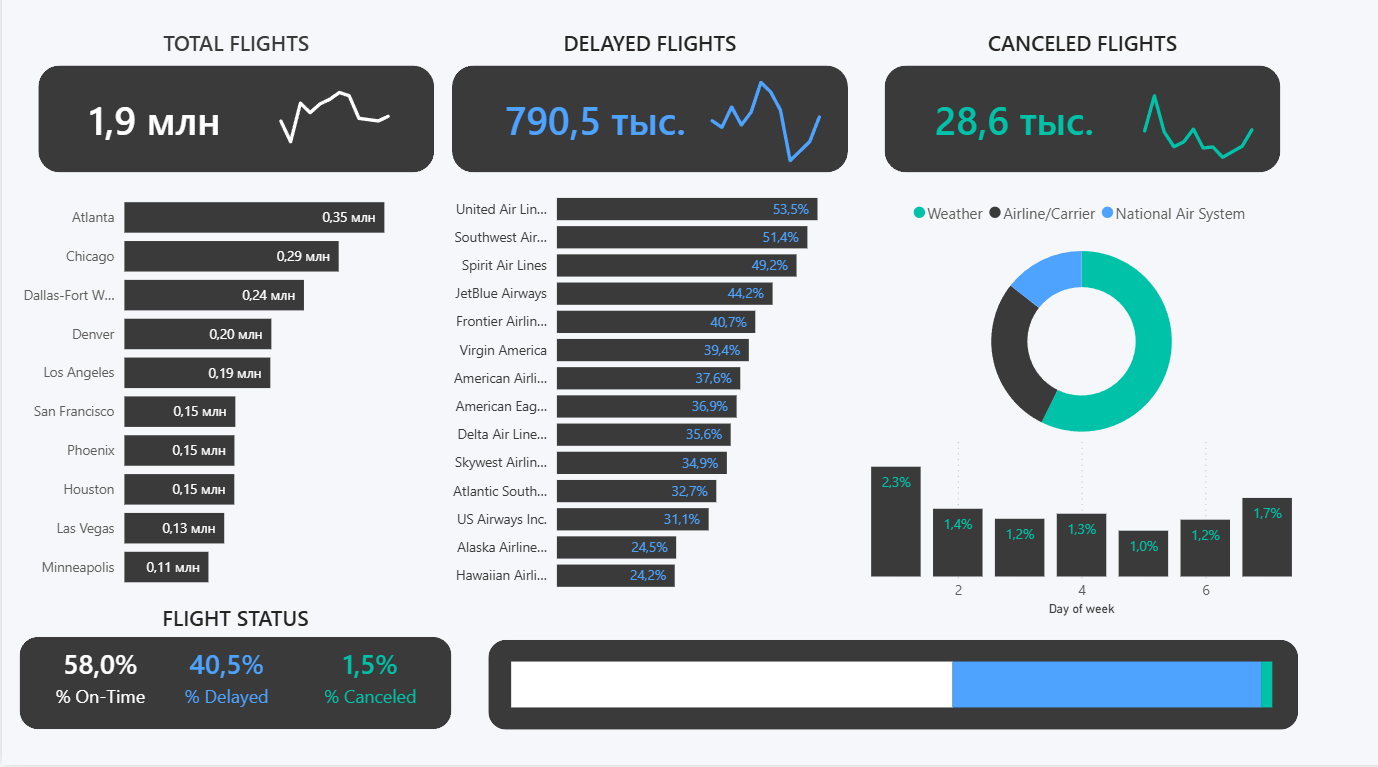

Layout of this report page (visuals, bound fields, positions):
{"tool":"powerbi","page":{"name":"Flight Status Dashboard","canvas":[1280,720],"ordinal":1},"visuals":[{"type":"shape","title":"FLIGHT STATUS","box":[16,576,384,112],"z":0},{"type":"shape","box":[432,608,720,80],"z":1000},{"type":"shape","title":"CANCELED FLIGHTS","box":[784,64,352,128],"z":2000},{"type":"shape","title":"DELAYED FLIGHTS","box":[400,64,352,128],"z":3000},{"type":"shape","title":"TOTAL FLIGHTS","box":[32,64,352,128],"z":4000},{"type":"cardVisual","fields":{"Data":["flights (2).Total Flights m"]},"box":[48,96,176,96],"z":5000},{"type":"lineChart","fields":{"Category":["flights (2).MONTH"],"Y":["flights (2).Total Flights m"]},"box":[224,96,160,96],"z":6000},{"type":"cardVisual","fields":{"Data":["flights (2).Delayed Flights m"]},"box":[416,96,224,96],"z":7000},{"type":"lineChart","fields":{"Category":["flights (2).MONTH"],"Y":["flights (2).Delayed Flights m"]},"box":[608,96,160,96],"z":8000},{"type":"cardVisual","fields":{"Data":["flights (2).Canceled Flights m"]},"box":[800,96,208,96],"z":9000},{"type":"lineChart","fields":{"Category":["flights (2).MONTH"],"Y":["flights (2).Canceled Flights m"]},"box":[992,96,160,96],"z":10000},{"type":"cardVisual","fields":{"Data":["flights (2).% On-Time"]},"box":[16,592,144,96],"z":11000},{"type":"cardVisual","fields":{"Data":["flights (2).% Delayed"]},"box":[128,592,144,96],"z":12000},{"type":"cardVisual","title":"retert","fields":{"Data":["flights (2).% Canceled"]},"box":[256,592,144,96],"z":13000},{"type":"barChart","fields":{"Category":["airports.CITY"],"Y":["flights (2).Total Flights m"]},"box":[0,192,384,384],"z":14000},{"type":"barChart","fields":{"Category":["airlines.AIRLINE"],"Y":["flights (2).% Delayed"]},"box":[384,192,384,384],"z":15000},{"type":"donutChart","fields":{"Y":["flights (2).Canceled Flights m"],"Category":["cancellation_codes.CANCELLATION_DESCRIPTION"]},"box":[768,208,384,240],"z":16000},{"type":"clusteredColumnChart","fields":{"Category":["flights (2).DAY_OF_WEEK"],"Y":["flights (2).% Canceled"]},"box":[768,416,384,176],"z":17000},{"type":"barChart","fields":{"Y":["flights (2).Total Flights m"],"Series":["flights (2).Status"]},"box":[448,608,704,80],"z":18000},{"type":"actionButton","box":[0,0,100,40],"z":19000}]}

Visuals, with their boxes in screenshot pixels (x1, y1, x2, y2), scaled from the page's 1280x720 canvas onto the 1378x767 screenshot:
"FLIGHT STATUS" shape: (17,614,431,733)
shape: (465,648,1240,733)
"CANCELED FLIGHTS" shape: (844,68,1223,205)
"DELAYED FLIGHTS" shape: (431,68,810,205)
"TOTAL FLIGHTS" shape: (34,68,413,205)
cardVisual - flights (2).Total Flights m: (52,102,241,205)
lineChart - flights (2).MONTH x flights (2).Total Flights m: (241,102,413,205)
cardVisual - flights (2).Delayed Flights m: (448,102,689,205)
lineChart - flights (2).MONTH x flights (2).Delayed Flights m: (655,102,827,205)
cardVisual - flights (2).Canceled Flights m: (861,102,1085,205)
lineChart - flights (2).MONTH x flights (2).Canceled Flights m: (1068,102,1240,205)
cardVisual - flights (2).% On-Time: (17,631,172,733)
cardVisual - flights (2).% Delayed: (138,631,293,733)
"retert" cardVisual: (276,631,431,733)
barChart - airports.CITY x flights (2).Total Flights m: (0,205,413,614)
barChart - airlines.AIRLINE x flights (2).% Delayed: (413,205,827,614)
donutChart - flights (2).Canceled Flights m x cancellation_codes.CANCELLATION_DESCRIPTION: (827,222,1240,477)
clusteredColumnChart - flights (2).DAY_OF_WEEK x flights (2).% Canceled: (827,443,1240,631)
barChart - flights (2).Total Flights m x flights (2).Status: (482,648,1240,733)
actionButton: (0,0,108,43)
